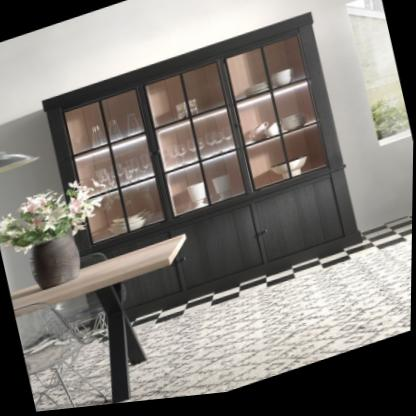Cupboard: (43, 20, 364, 323)
